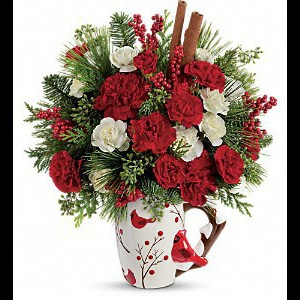flowerpot: (106, 170, 194, 289)
